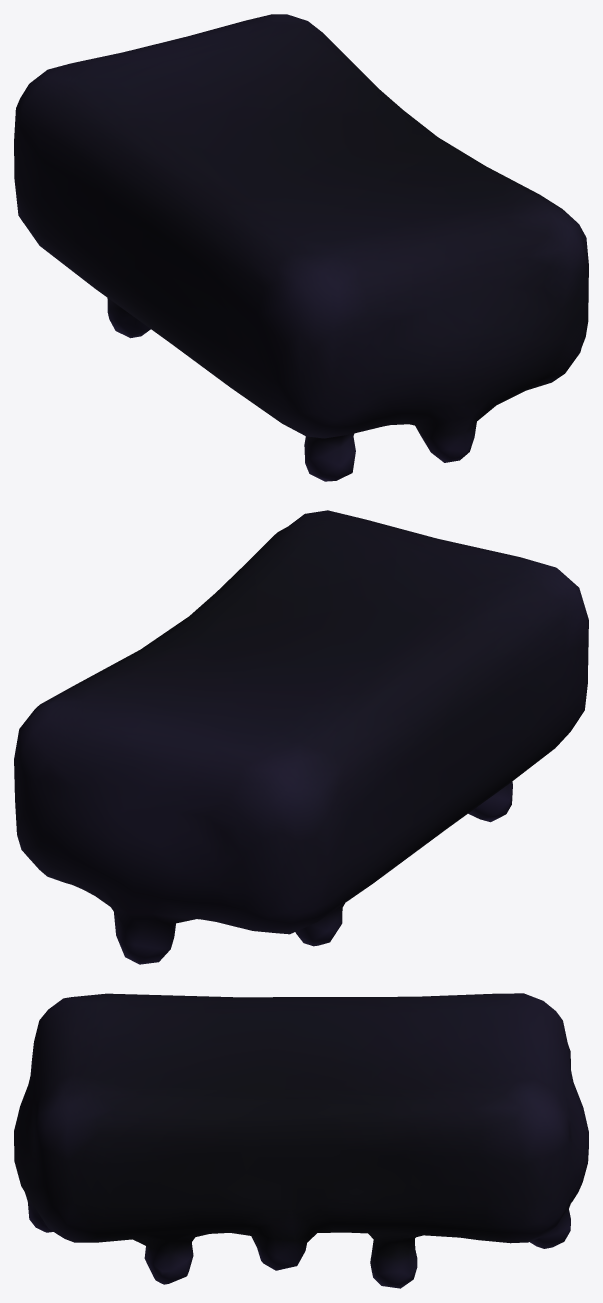
Rendered from torso_low.glb.
3 views of the same model, one above another, from view 1: azimuth 30°, elevation 25°; view 2: azimuth 150°, elevation 25°; view 3: azimuth 270°, elevation 25° (orthographic). The views are drawn at different scales.
Visible parts, largest first — view 1: Goo; view 2: Goo; view 3: Goo.
Part boxes in pixels (x1=…): Goo: x1=14, y1=14, x2=588, y2=481; Goo: x1=14, y1=510, x2=588, y2=964; Goo: x1=14, y1=993, x2=588, y2=1288.
Size of the model in its own units: 0.4655 by 0.3571 by 0.8696.
